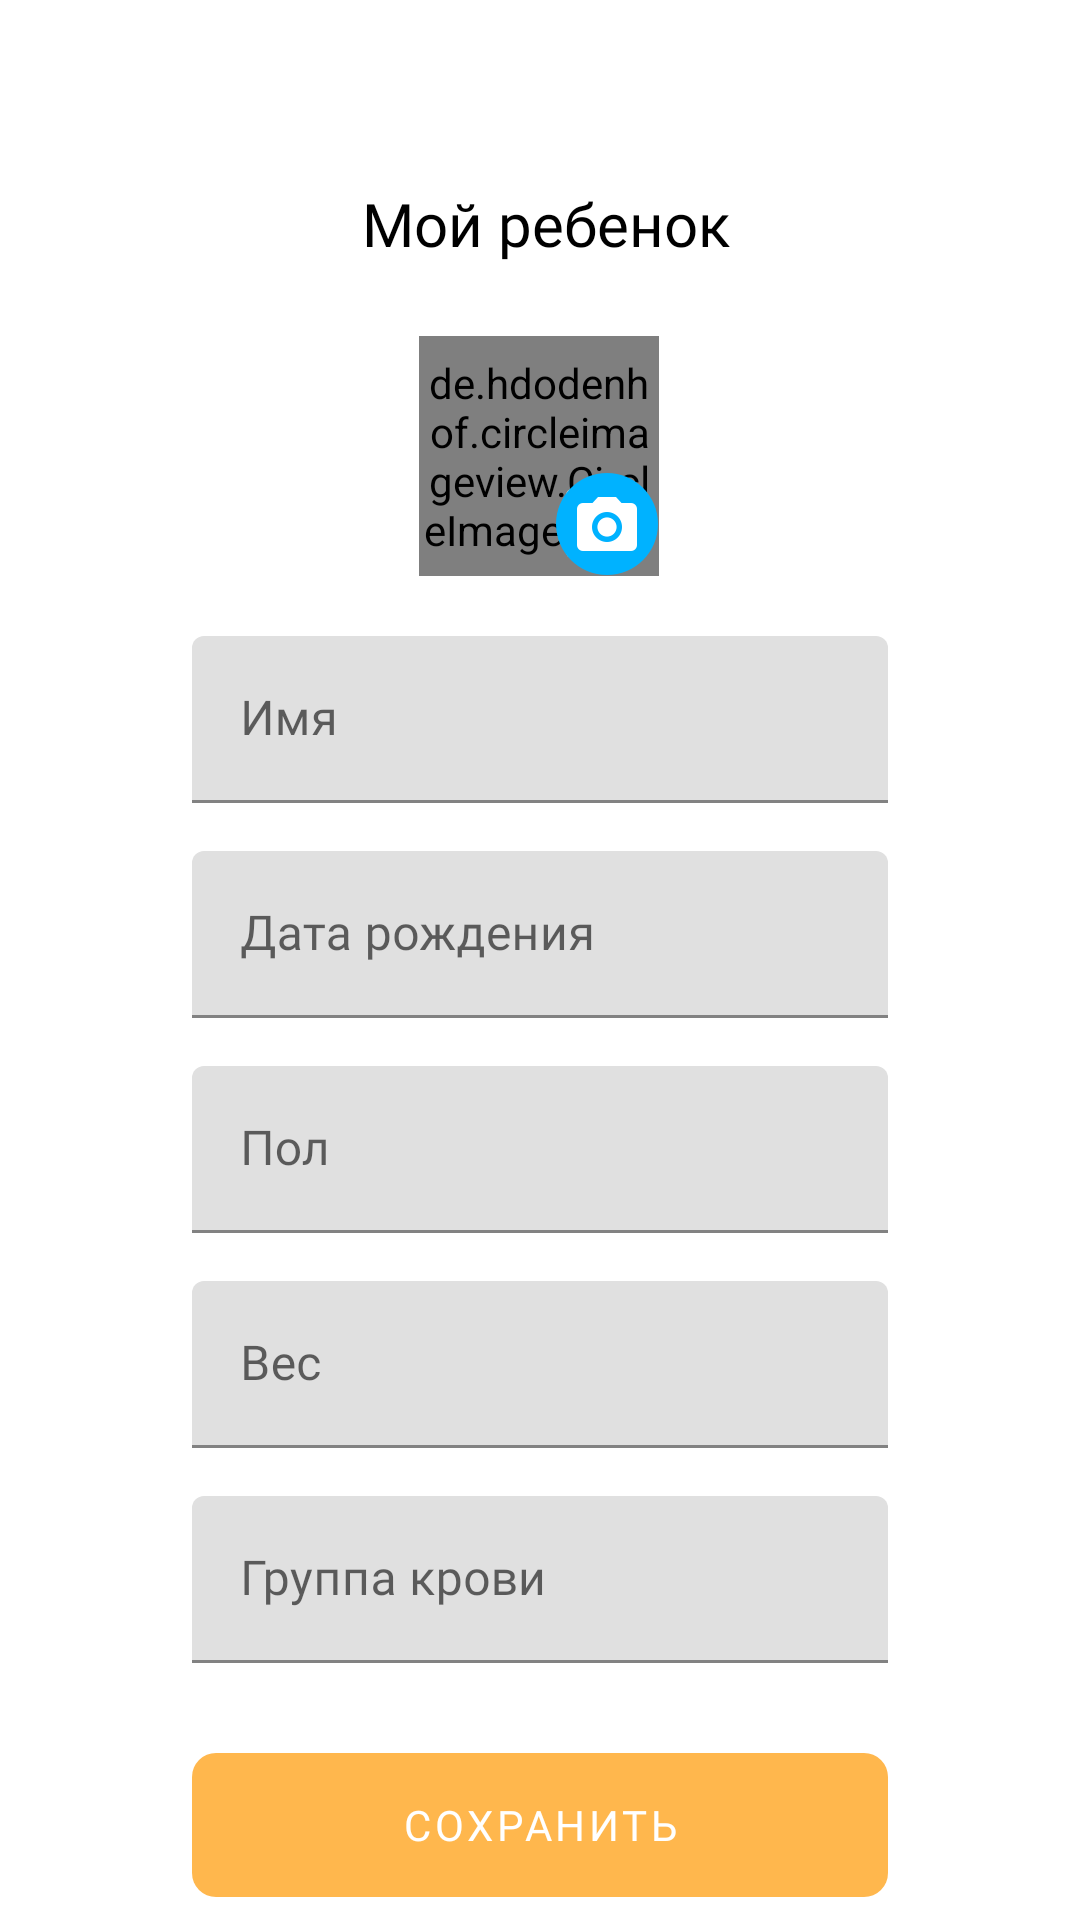

Named icons in this screenshot (1080px×1920px) and their centers, [x,y]:
photo camera: [606,523]
